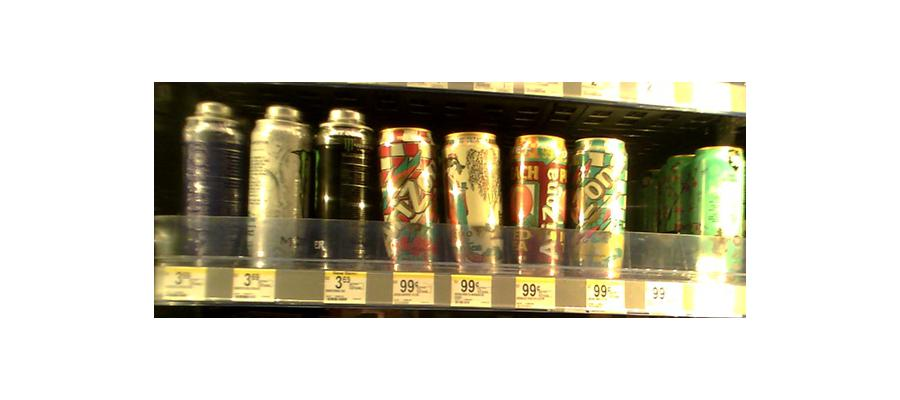bottle: (181, 100, 244, 267), (313, 109, 375, 272), (248, 108, 310, 264), (379, 123, 439, 270), (444, 128, 504, 272), (510, 131, 566, 272), (573, 135, 626, 279), (693, 144, 745, 281), (647, 152, 693, 272)
